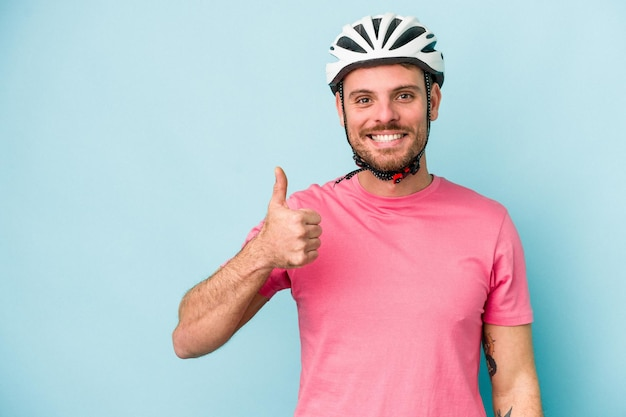helmet: (326, 12, 445, 183)
